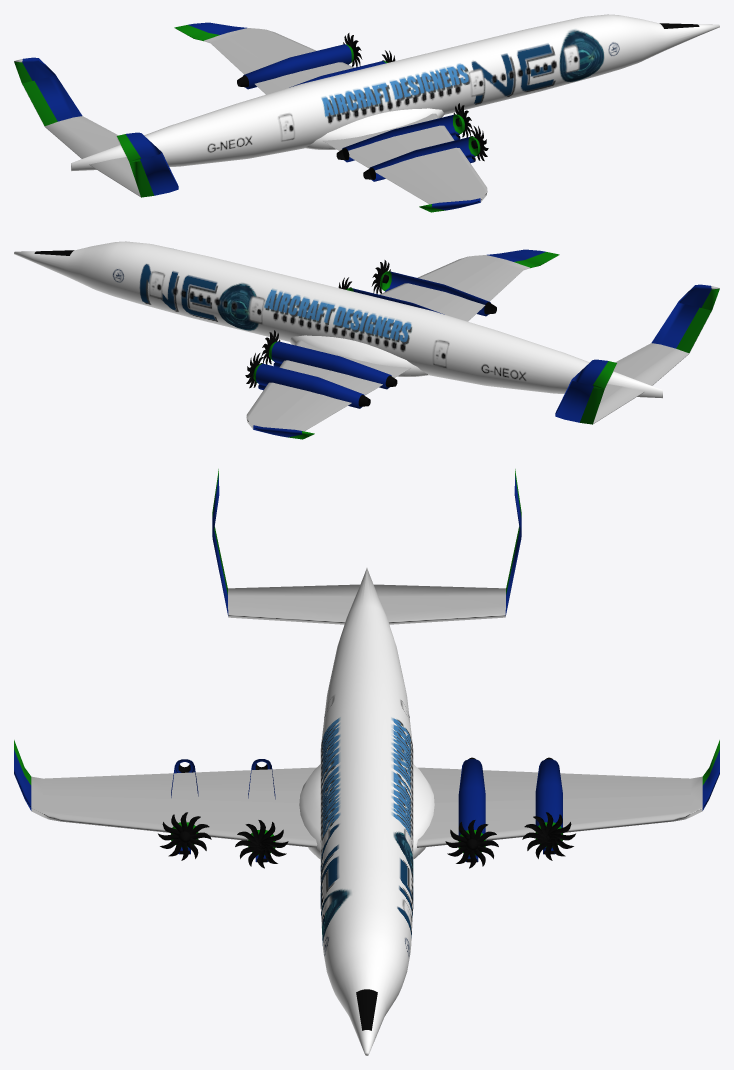
Rendered from NEOADB1.glb.
The picture shows the model from 3 angles, top to bottom: view 1: azimuth 30°, elevation 25°; view 2: azimuth 150°, elevation 25°; view 3: azimuth 270°, elevation 25°; orthographic projection. The views are drawn at different scales.
Visible parts, largest first — view 1: Cylinder, Cube, Cube.009, Cylinder.005, Cube.008, elevators, rudder1, rudder2; view 2: Cylinder, Cube, Cylinder.005, Cube.009, Cube.008, elevators, rudder2, rudder1; view 3: Cylinder, Cube, Cube.009, Cube.008, Cylinder.005, elevators, fan1, fan4, fan2, fan3.
Boxes of the visible parts, box(x1,y1,x2,y2) form: Cylinder: box(71, 14, 719, 171); Cube: box(174, 22, 487, 212); Cube.009: box(14, 57, 178, 195); Cylinder.005: box(237, 44, 480, 181); Cube.008: box(229, 34, 462, 200); elevators: box(44, 122, 140, 196); rudder1: box(22, 80, 57, 126); rudder2: box(129, 157, 154, 197); Cylinder: box(14, 241, 662, 398); Cube: box(246, 249, 559, 439); Cylinder.005: box(253, 271, 496, 408); Cube.009: box(555, 284, 719, 422); Cube.008: box(271, 261, 504, 427); elevators: box(593, 349, 689, 423); rudder2: box(676, 307, 711, 353); rudder1: box(579, 384, 604, 424); Cylinder: box(299, 568, 434, 1055); Cube: box(14, 740, 719, 847); Cube.009: box(212, 469, 521, 624); Cube.008: box(43, 789, 690, 802); Cylinder.005: box(171, 757, 562, 862); elevators: box(228, 584, 505, 596); fan1: box(522, 812, 575, 860); fan4: box(158, 812, 211, 860); fan2: box(445, 820, 498, 868); fan3: box(235, 820, 288, 868).
Size of the model in its own units: 56.69 by 8.72 by 36.73.
5 materials, 1 textured.
